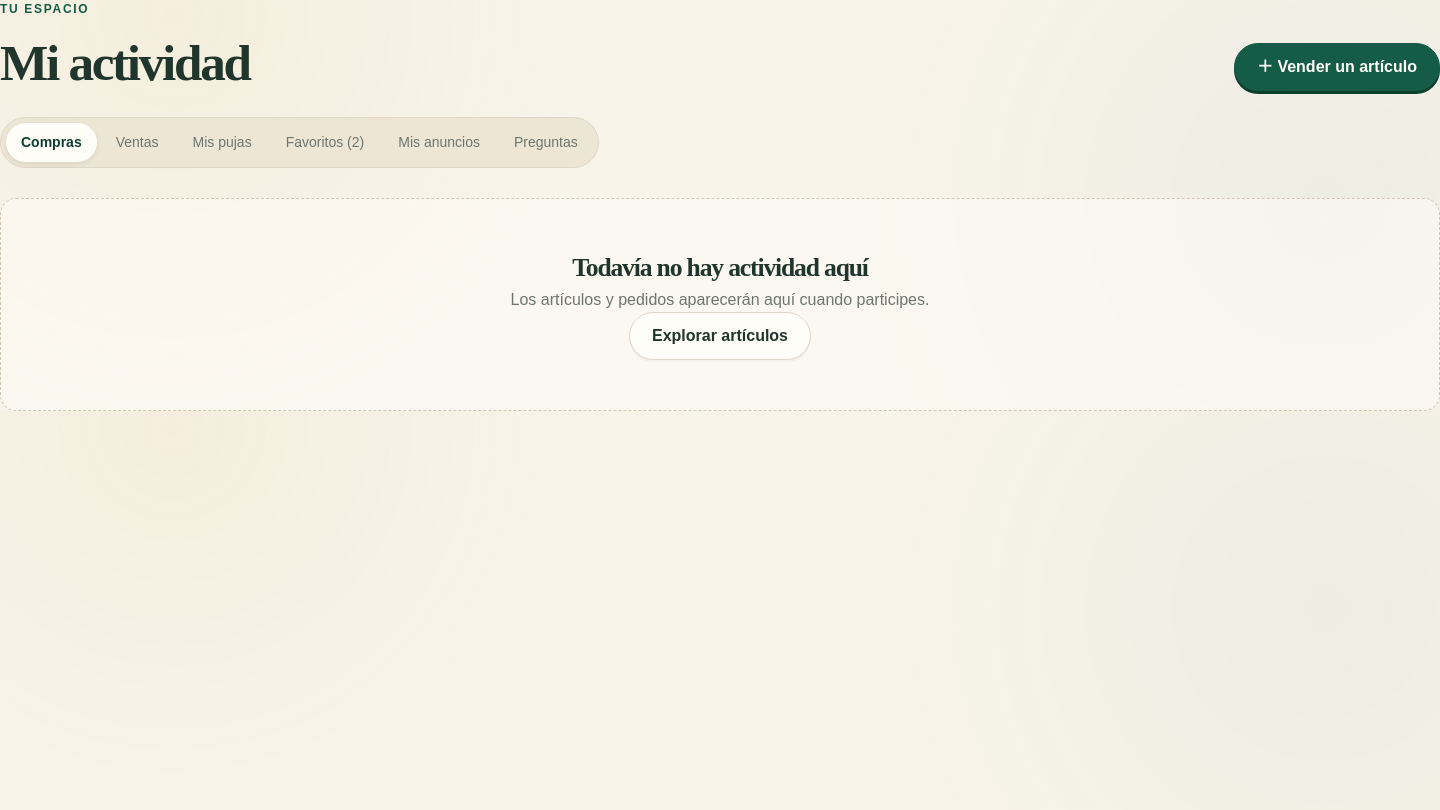
Test: My Products Favorites Tab (LP-FEAT-018) › renders the favorites tab with count and lists items (AC-01, RF-02)
Click the button "Favoritos (2)": (325,143) top-left (271, 123), bottom-right (379, 162)
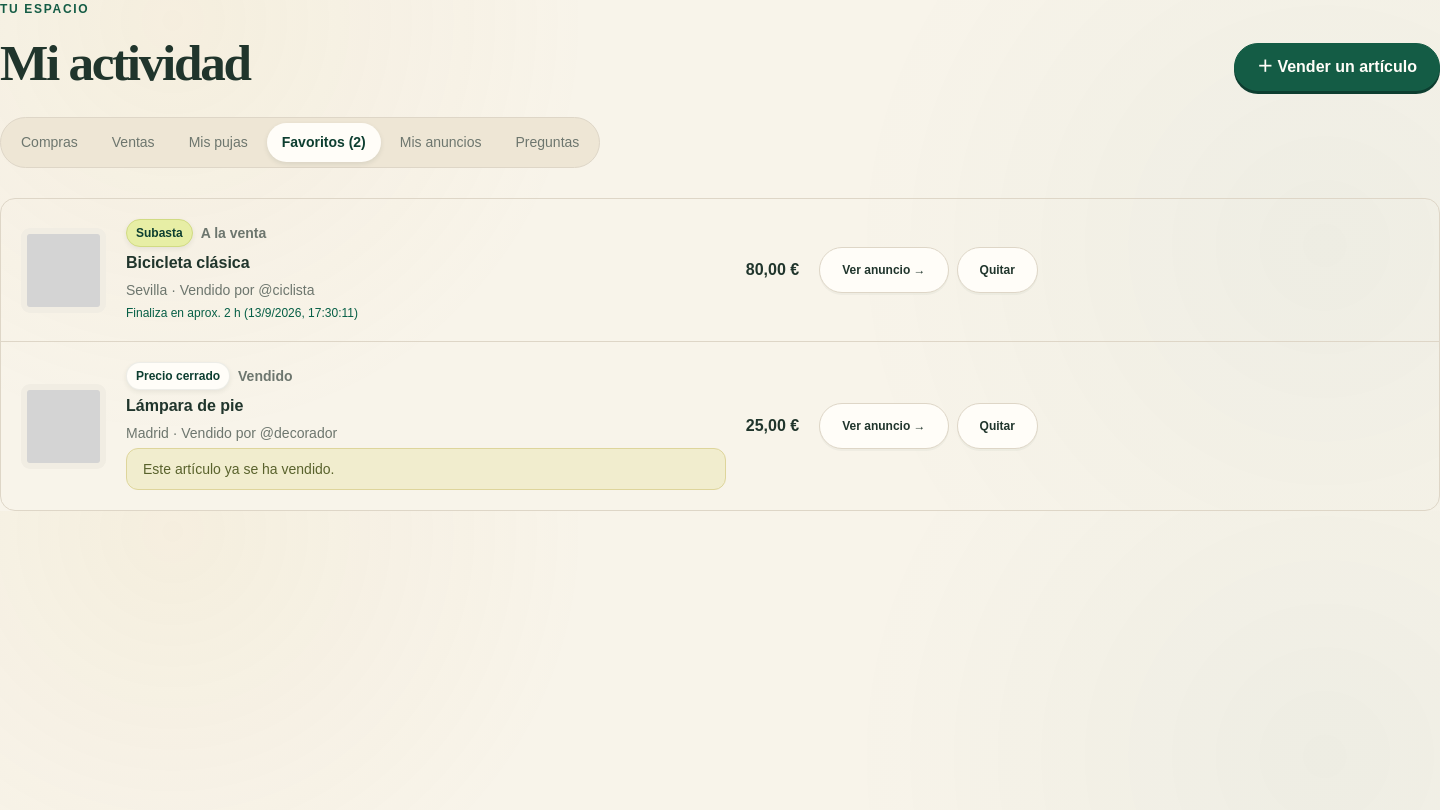
Expected: the link "Bicicleta clásica" is shown, top-left (126, 254), bottom-right (250, 271)
Expected: the link "Lámpara de pie" is shown, top-left (126, 397), bottom-right (243, 414)
Expected: the text "Finaliza en aprox. 2 h (13/9/2026, 17:30:11)" is shown, top-left (126, 306), bottom-right (358, 320)
